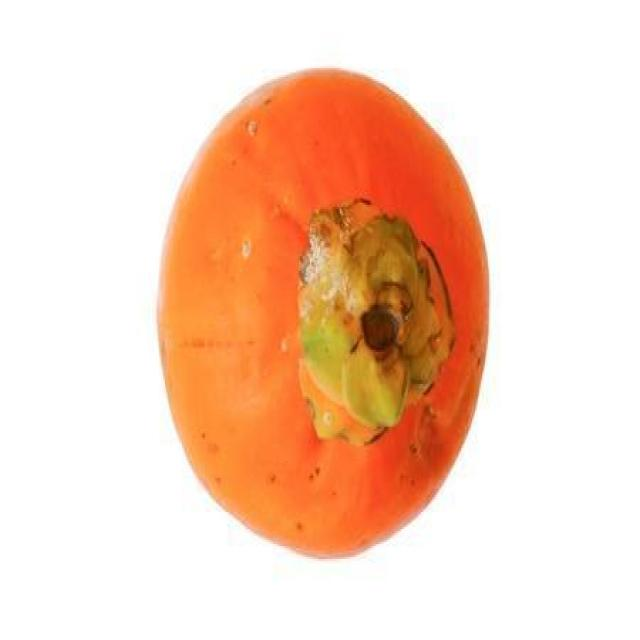good: (156, 70, 491, 559)
